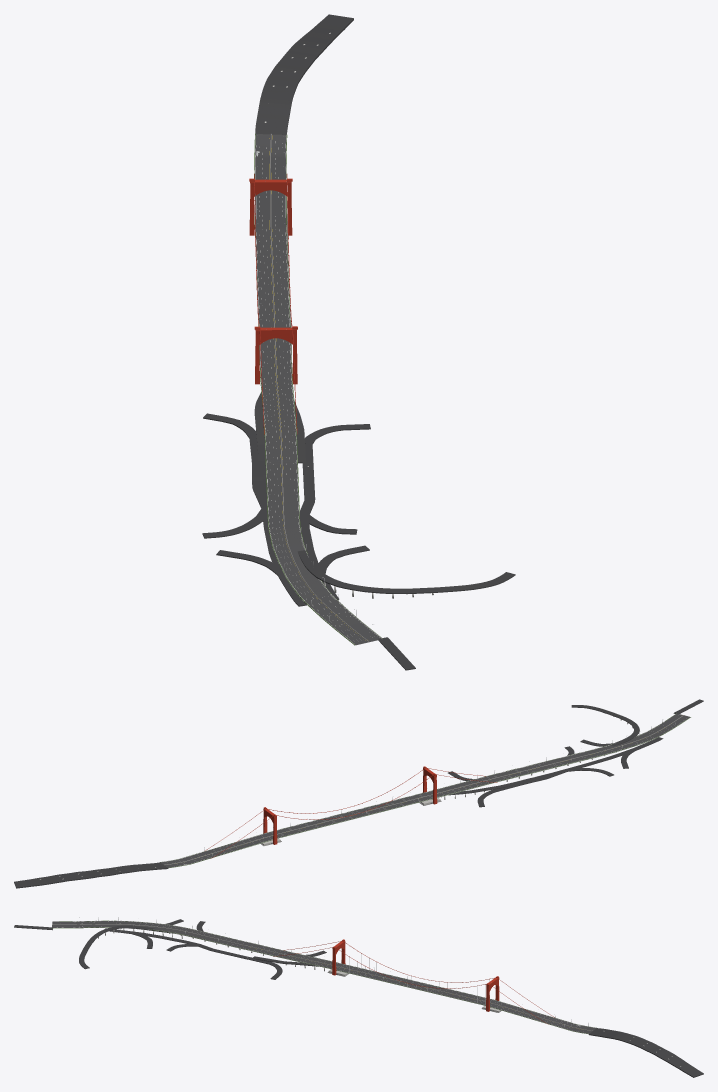
The picture shows the model from 3 angles, top to bottom: view 1: azimuth 30°, elevation 25°; view 2: azimuth 150°, elevation 25°; view 3: azimuth 270°, elevation 25°; orthographic projection. The views are drawn at different scales.
Parts seen in each view (by area): view 1: Deck_Asphalt; view 2: Deck_Asphalt; view 3: Deck_Asphalt.
Boxes of the visible parts, x1,y1,x2,y2 form: Deck_Asphalt: (202, 14, 515, 670); Deck_Asphalt: (14, 699, 703, 888); Deck_Asphalt: (14, 917, 703, 1077).
Bounding box in the file's own units: 900 × 80.03 × 1652.
Materials: 16 (9 with a texture image).
